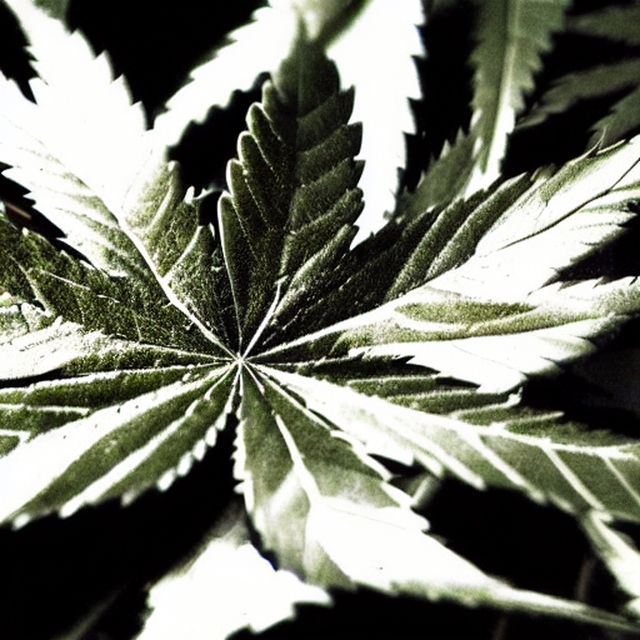Marijuana Leaf: (0, 1, 638, 633)
